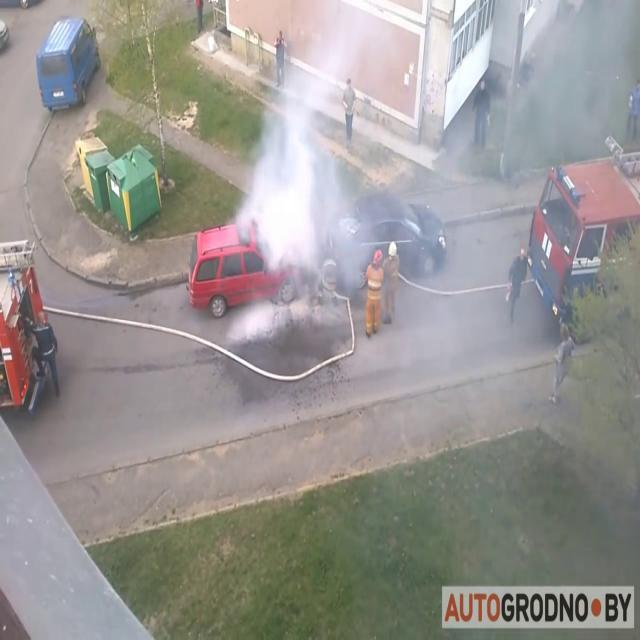Smoke: (232, 8, 398, 320)
